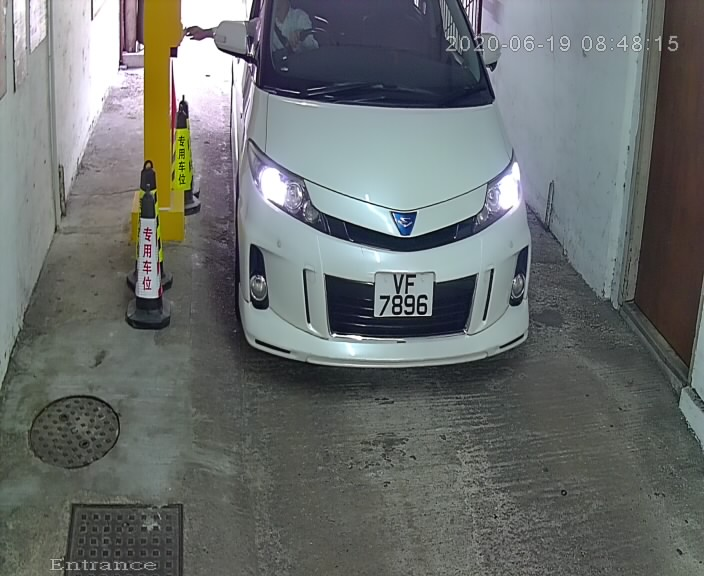bottom_left_lp: (371, 310, 378, 319)
bottom_left_windshield: (251, 73, 267, 92)
bottom_right_lp: (429, 310, 435, 318)
bottom_right_windshield: (481, 88, 503, 110)
brand: (387, 204, 420, 238)
left_headlight: (246, 140, 314, 223)
right_headlight: (474, 148, 530, 232)
top_left_lp: (372, 268, 381, 280)
top_right_lp: (428, 267, 436, 278)
